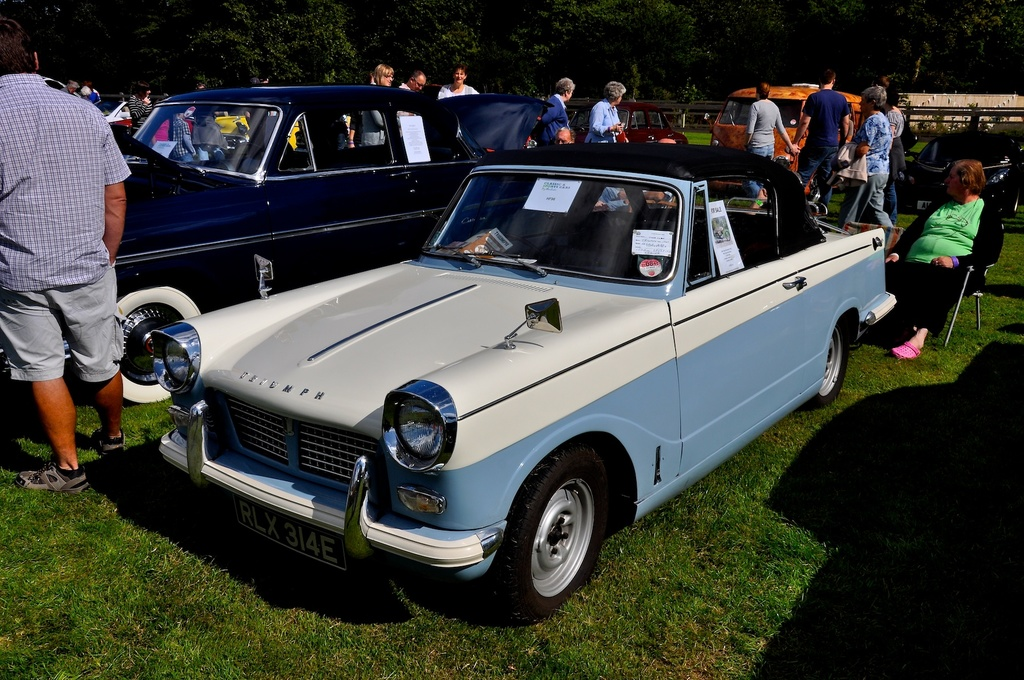mobil: (165, 139, 889, 619)
